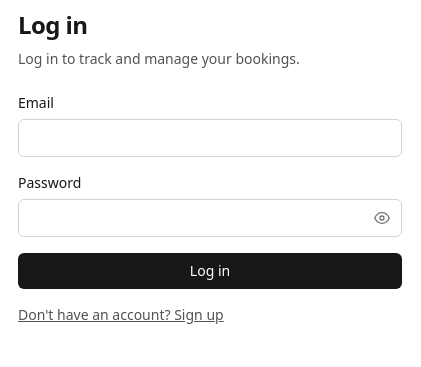
Test case: AccountPage › shows the API error message and does not navigate on failure
Type "ada@example.com" into the field labelled "Email" at (210, 138), box 18,119 -> 402,157
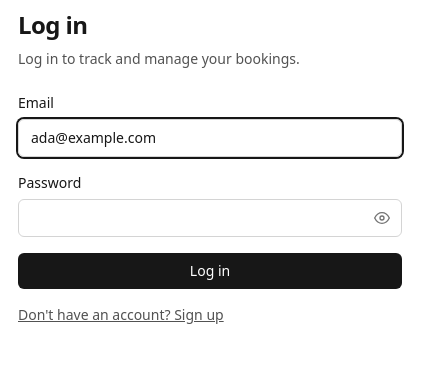
Type "wrong" into the password field labelled "Password" at (210, 218), box 18,199 -> 402,237
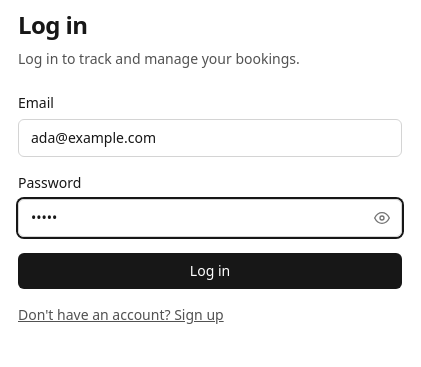
Click the button "Log in" at (210, 271), box 18,253 -> 402,289
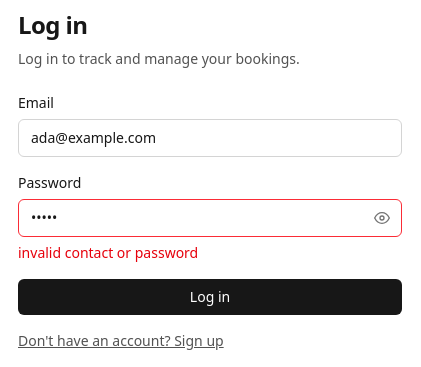
Now the text "invalid contact or password" is shown, box 18,243 -> 198,262
